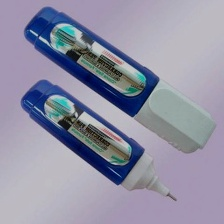correction_fluid: (22, 4, 218, 156), (17, 76, 180, 204)
